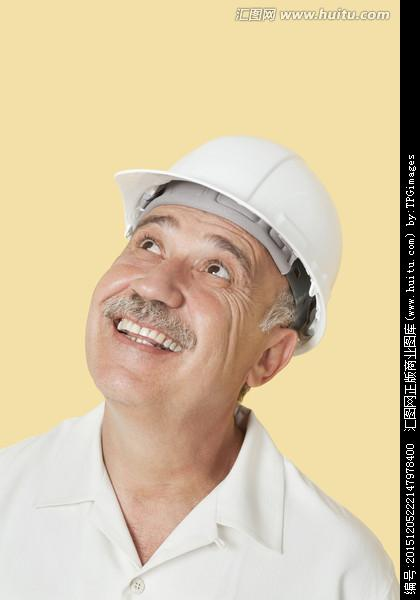helmet: (115, 133, 347, 353)
